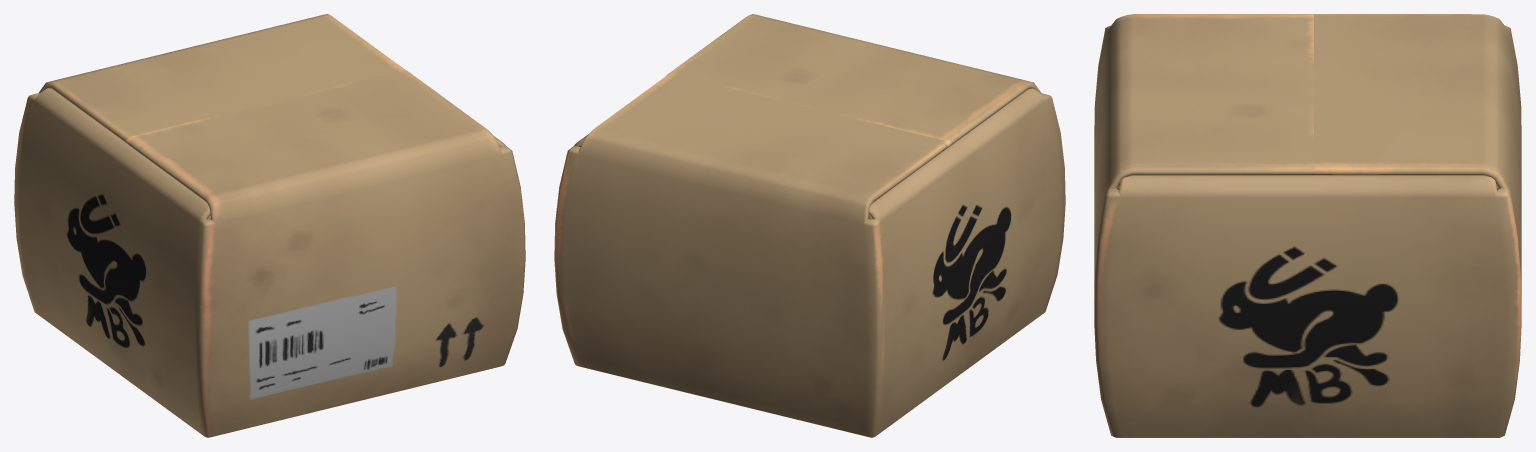
Rendered from PackageAnimation 2.fbx.
The picture shows the model from 3 angles, left to right: view 1: azimuth 30°, elevation 25°; view 2: azimuth 150°, elevation 25°; view 3: azimuth 270°, elevation 25°; orthographic projection. The views are drawn at different scales.
Parts seen in each view (by area): view 1: Package; view 2: Package; view 3: Package.
Part boxes in pixels (x1,y1,x2,y2): Package: (14,14,525,437); Package: (554,14,1065,437); Package: (1094,14,1521,437).
Bounding box in the file's own units: 28.89 × 19.88 × 28.89.
